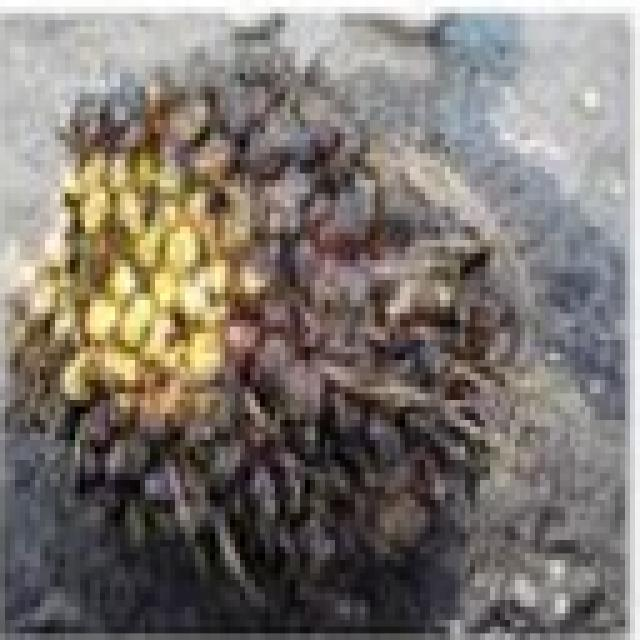FFB: (39, 83, 500, 622)
